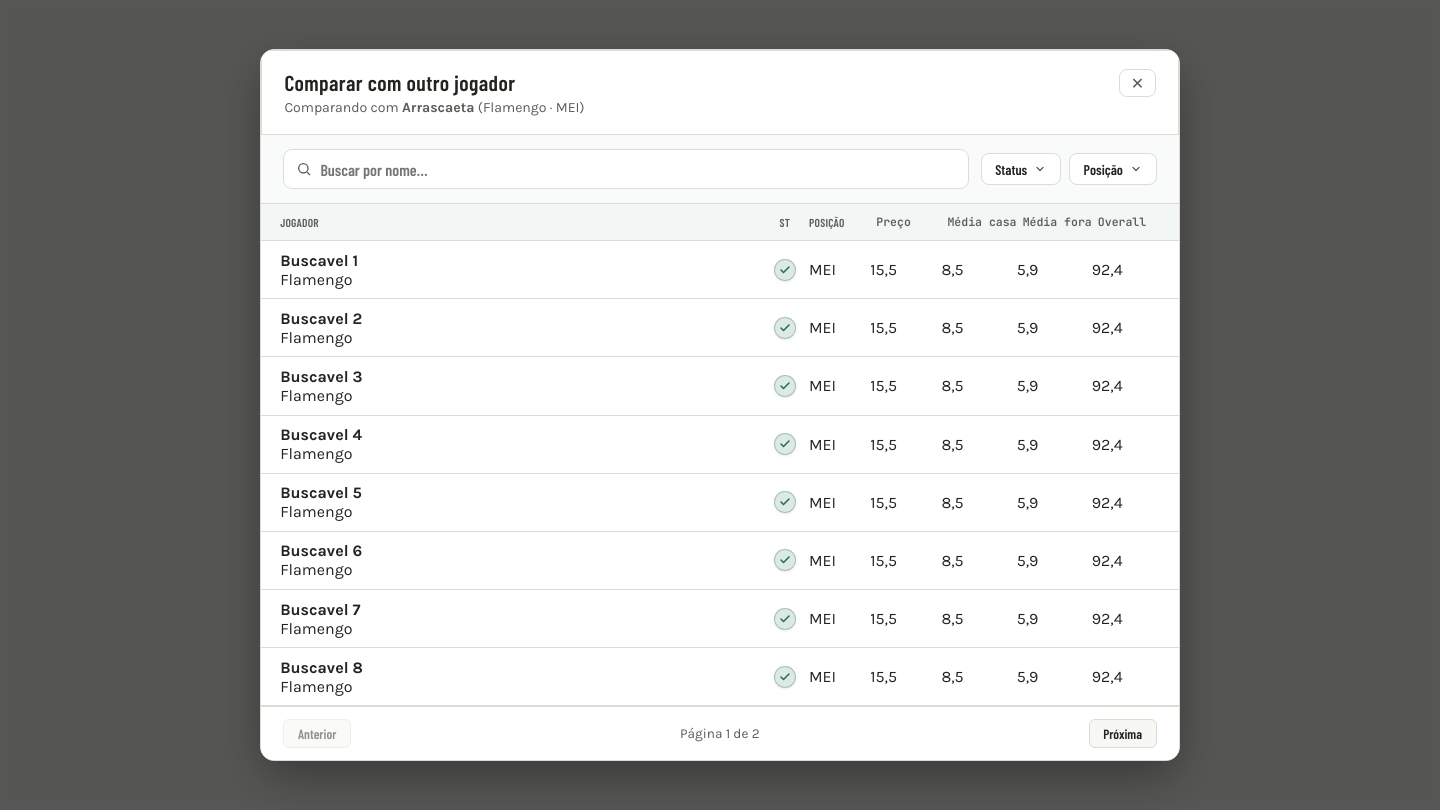
Test case: ModalCompararJogador › reseta para a página 1 ao digitar no campo de busca enquanto estava em outra página
Check: the text "Buscavel 1" is shown, box [280, 250, 358, 270]
Step 1. Click the button "Próxima" → (1123, 734), box [1089, 719, 1157, 748]
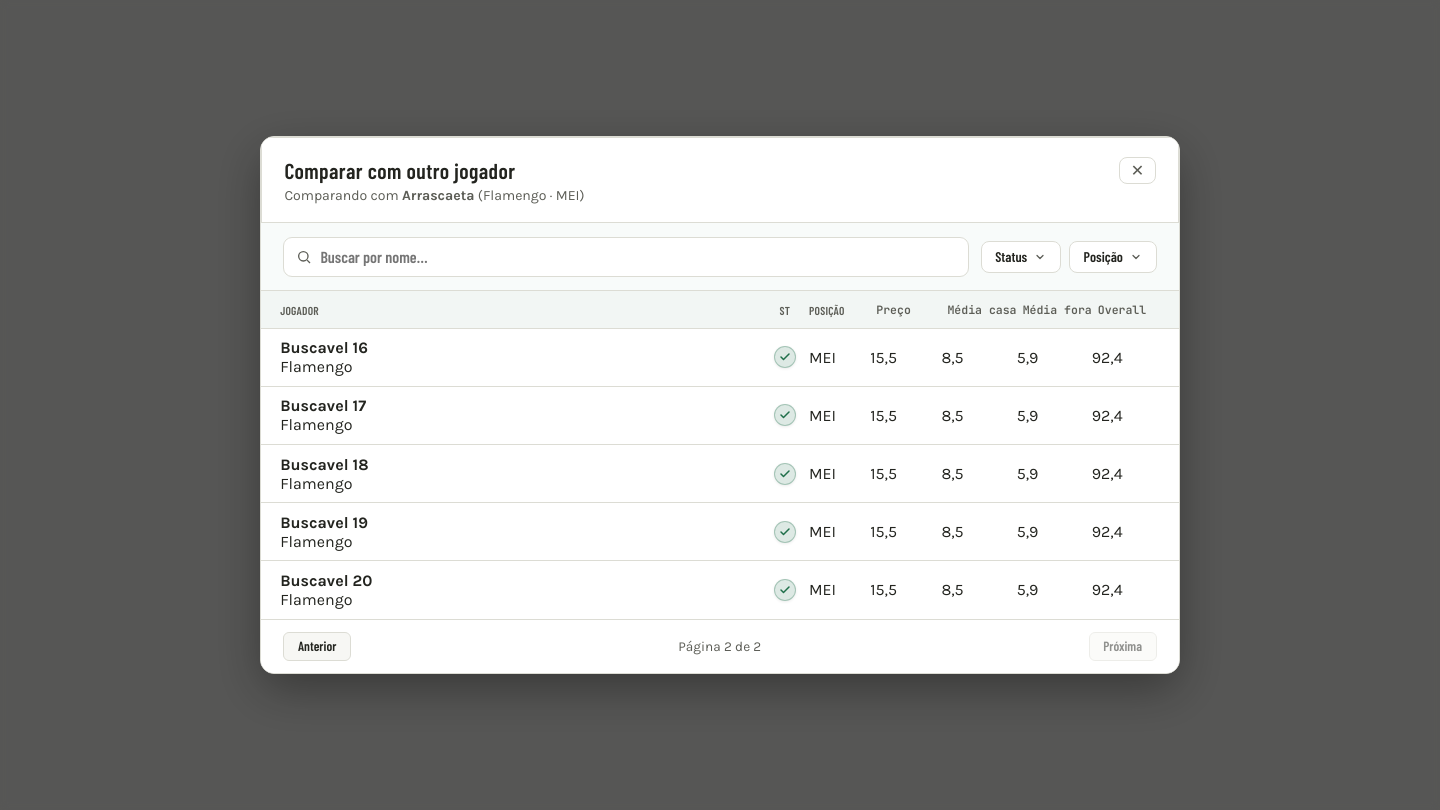
Check: the text "Página 2 de 2" is shown, box [678, 639, 761, 654]
Step 2. Type "Buscavel" into the search field with placeholder "Buscar por nome…" → (638, 257), box [320, 238, 956, 276]
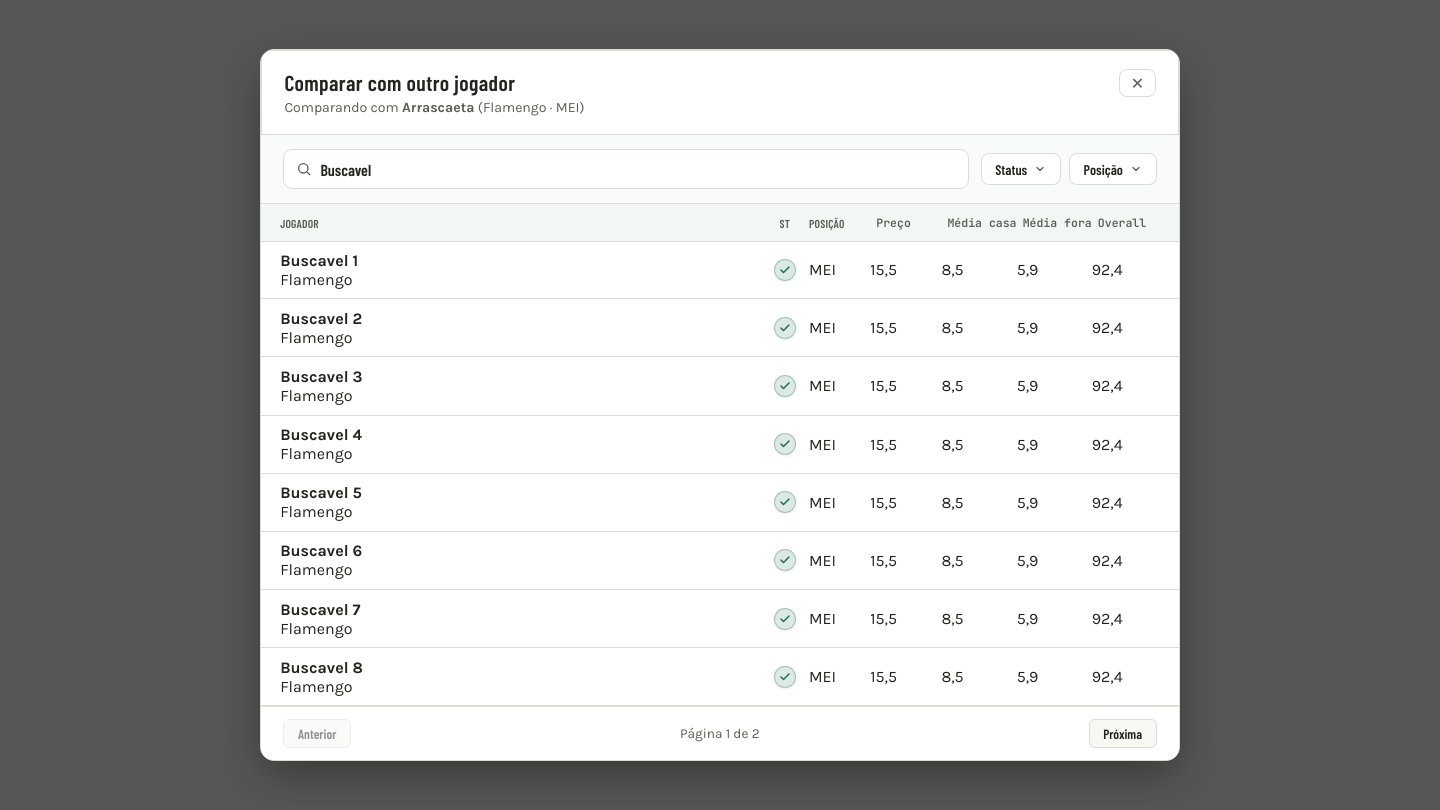
Check: the text "Página 1 de 2" is shown, box [680, 726, 760, 741]
